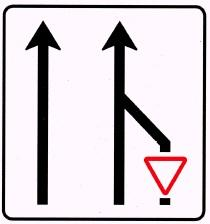aplicacao de prescricao a via de transito: (0, 3, 210, 224)
